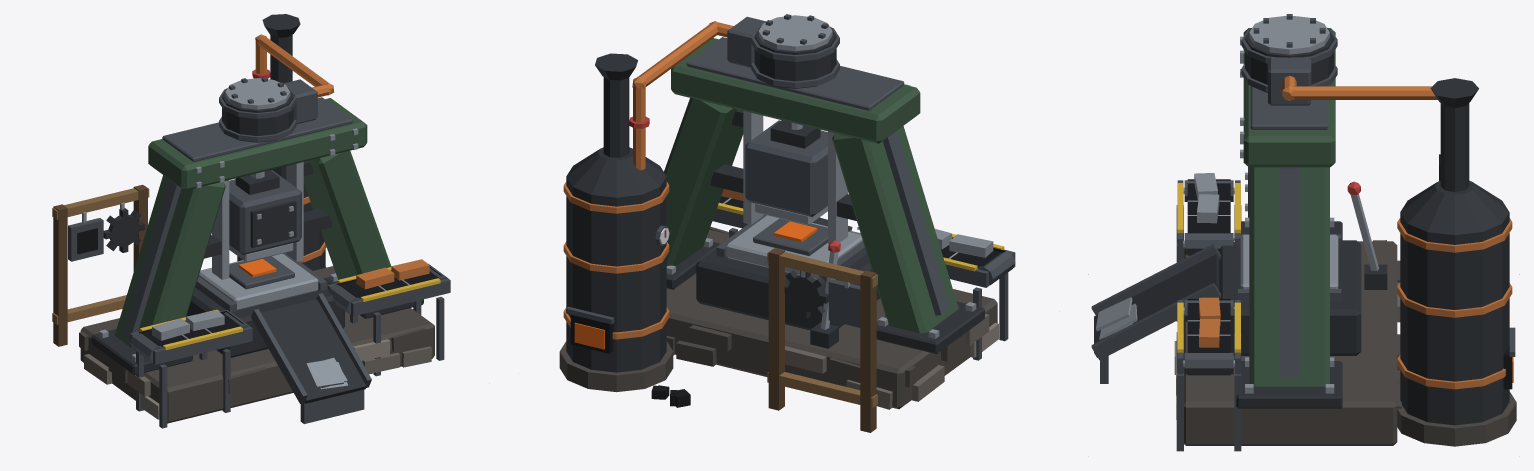
File: estampeuse_t1.glb
3 views of the same model, side by side, from view 1: azimuth 30°, elevation 25°; view 2: azimuth 150°, elevation 25°; view 3: azimuth 270°, elevation 25° (orthographic). The views are drawn at different scales.
Parts seen in each view (by area): view 1: pieces_acier_sombre.015, massif.005, pieces_fonte.015, jambe_-1.003, jambe_1.003, traverse.003, pieces_acier.015, traverse_chapeau.003, marteau_masse.003, pieces_bois_sombre.005, pieces_cuivre.007, enclume.003 (+18 smaller); view 2: chaudiere.005, jambe_-1.003, massif.005, pieces_acier_sombre.015, traverse.003, jambe_1.003, pieces_fonte.015, marteau_masse.003, pieces_bois_sombre.005, chabotte.003, pieces_acier.015, traverse_chapeau.003 (+24 smaller); view 3: chaudiere.005, massif.005, jambe_1.003, pieces_acier_sombre.015, pieces_fonte.015, chabotte.003, traverse.003, chaudiere_dome.005, pieces_acier.015, pieces_cuivre.007, pieces_noir.015, chaudiere_socle.005 (+12 smaller).
Boxes of the visible parts, x1=… form: pieces_acier_sombre.015: x1=68, y1=77, x2=450, y2=428; massif.005: x1=80, y1=266, x2=434, y2=423; pieces_fonte.015: x1=91, y1=35, x2=423, y2=403; jambe_-1.003: x1=114, y1=175, x2=225, y2=350; jambe_1.003: x1=303, y1=150, x2=391, y2=279; traverse.003: x1=148, y1=98, x2=367, y2=190; pieces_acier.015: x1=82, y1=128, x2=409, y2=389; traverse_chapeau.003: x1=162, y1=97, x2=353, y2=161; marteau_masse.003: x1=229, y1=170, x2=301, y2=255; pieces_bois_sombre.005: x1=53, y1=184, x2=147, y2=346; pieces_cuivre.007: x1=255, y1=34, x2=429, y2=289; enclume.003: x1=199, y1=253, x2=318, y2=310; chaudiere.005: x1=566, y1=177, x2=666, y2=372; jambe_-1.003: x1=832, y1=126, x2=958, y2=333; massif.005: x1=666, y1=229, x2=997, y2=409; pieces_acier_sombre.015: x1=566, y1=14, x2=1015, y2=360; traverse.003: x1=671, y1=38, x2=920, y2=143; jambe_1.003: x1=664, y1=98, x2=743, y2=266; pieces_fonte.015: x1=603, y1=77, x2=984, y2=353; marteau_masse.003: x1=745, y1=120, x2=827, y2=216; pieces_bois_sombre.005: x1=768, y1=248, x2=876, y2=432; chabotte.003: x1=696, y1=249, x2=879, y2=330; pieces_acier.015: x1=666, y1=84, x2=993, y2=338; traverse_chapeau.003: x1=686, y1=37, x2=904, y2=110; chaudiere.005: x1=1400, y1=212, x2=1509, y2=425; massif.005: x1=1183, y1=241, x2=1397, y2=445; jambe_1.003: x1=1249, y1=167, x2=1329, y2=386; pieces_acier_sombre.015: x1=1091, y1=14, x2=1515, y2=451; pieces_fonte.015: x1=1094, y1=103, x2=1469, y2=408; chabotte.003: x1=1218, y1=240, x2=1361, y2=355; traverse.003: x1=1243, y1=28, x2=1335, y2=167; chaudiere_dome.005: x1=1400, y1=180, x2=1509, y2=235; pieces_acier.015: x1=1096, y1=36, x2=1378, y2=393; pieces_cuivre.007: x1=1199, y1=75, x2=1437, y2=347; pieces_noir.015: x1=1187, y1=154, x2=1440, y2=375; chaudiere_socle.005: x1=1397, y1=391, x2=1516, y2=446.
Size of the model in its own units: 1.5 by 1.29 by 1.5.
